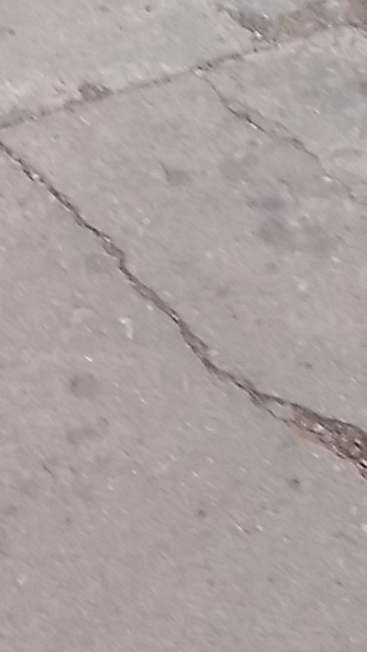A: (1, 64, 363, 490)
